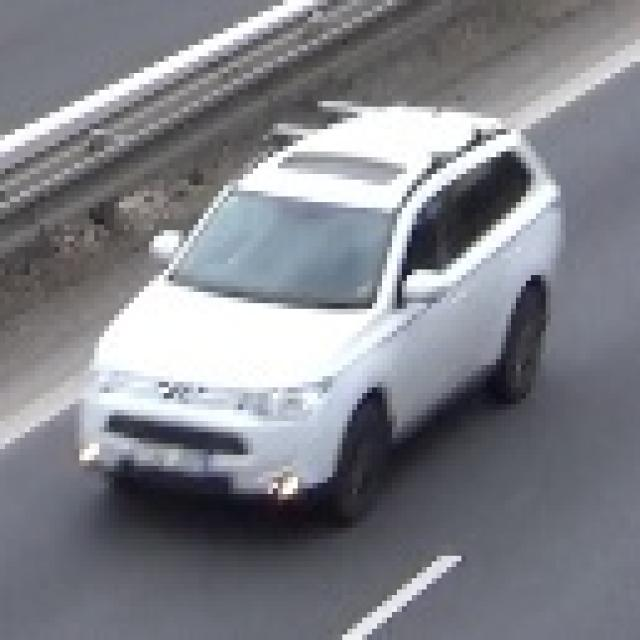SUV: (90, 108, 566, 485)
